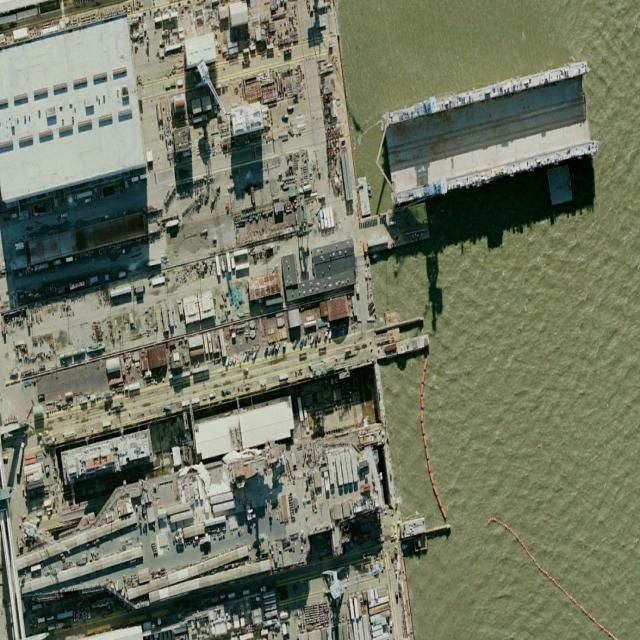Aircraft Carrier: (9, 422, 389, 634)
